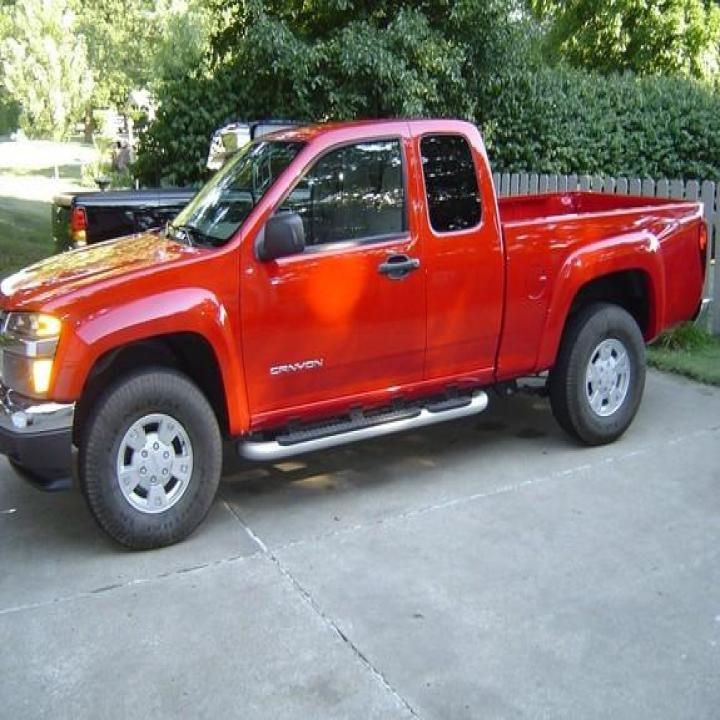car: (0, 115, 710, 550), (50, 122, 302, 253)
